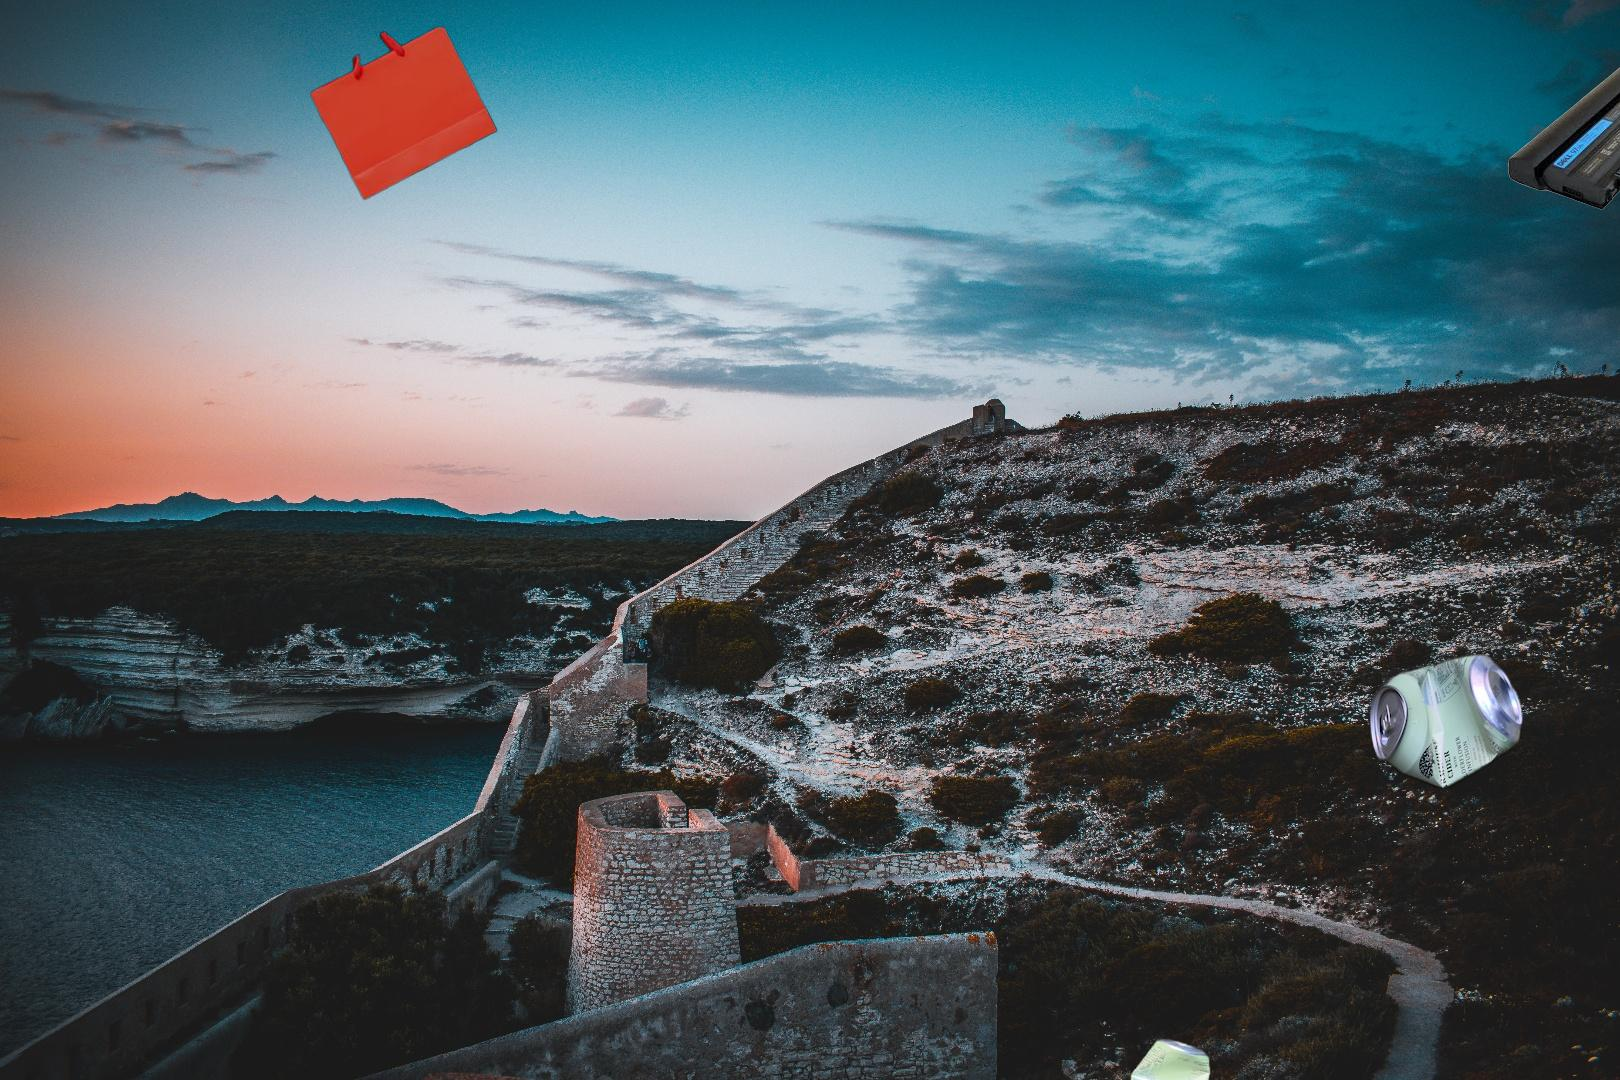battery: (1505, 42, 1620, 213)
metal-cans: (1364, 648, 1527, 796), (1126, 1032, 1216, 1080)
paper-bag: (307, 25, 500, 201)
